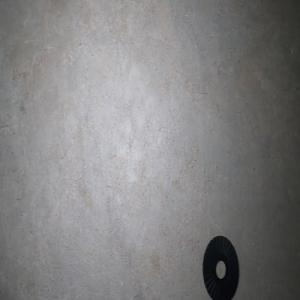Washer: (202, 235, 239, 299)
